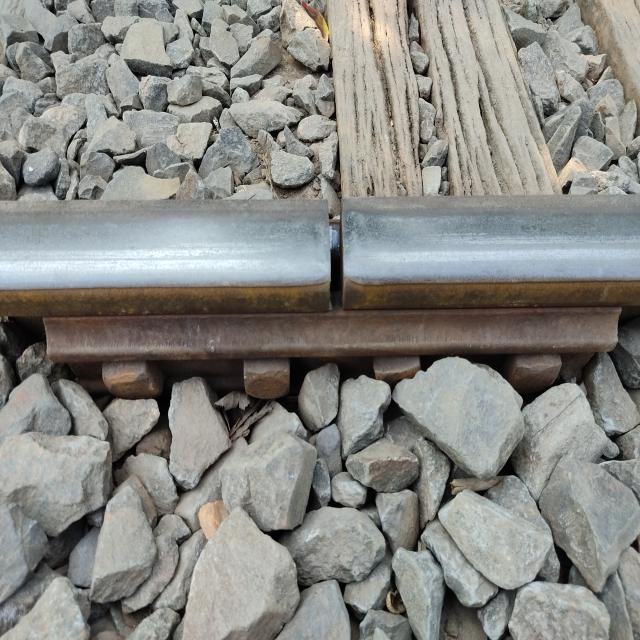Faults: (308, 192, 362, 329)
